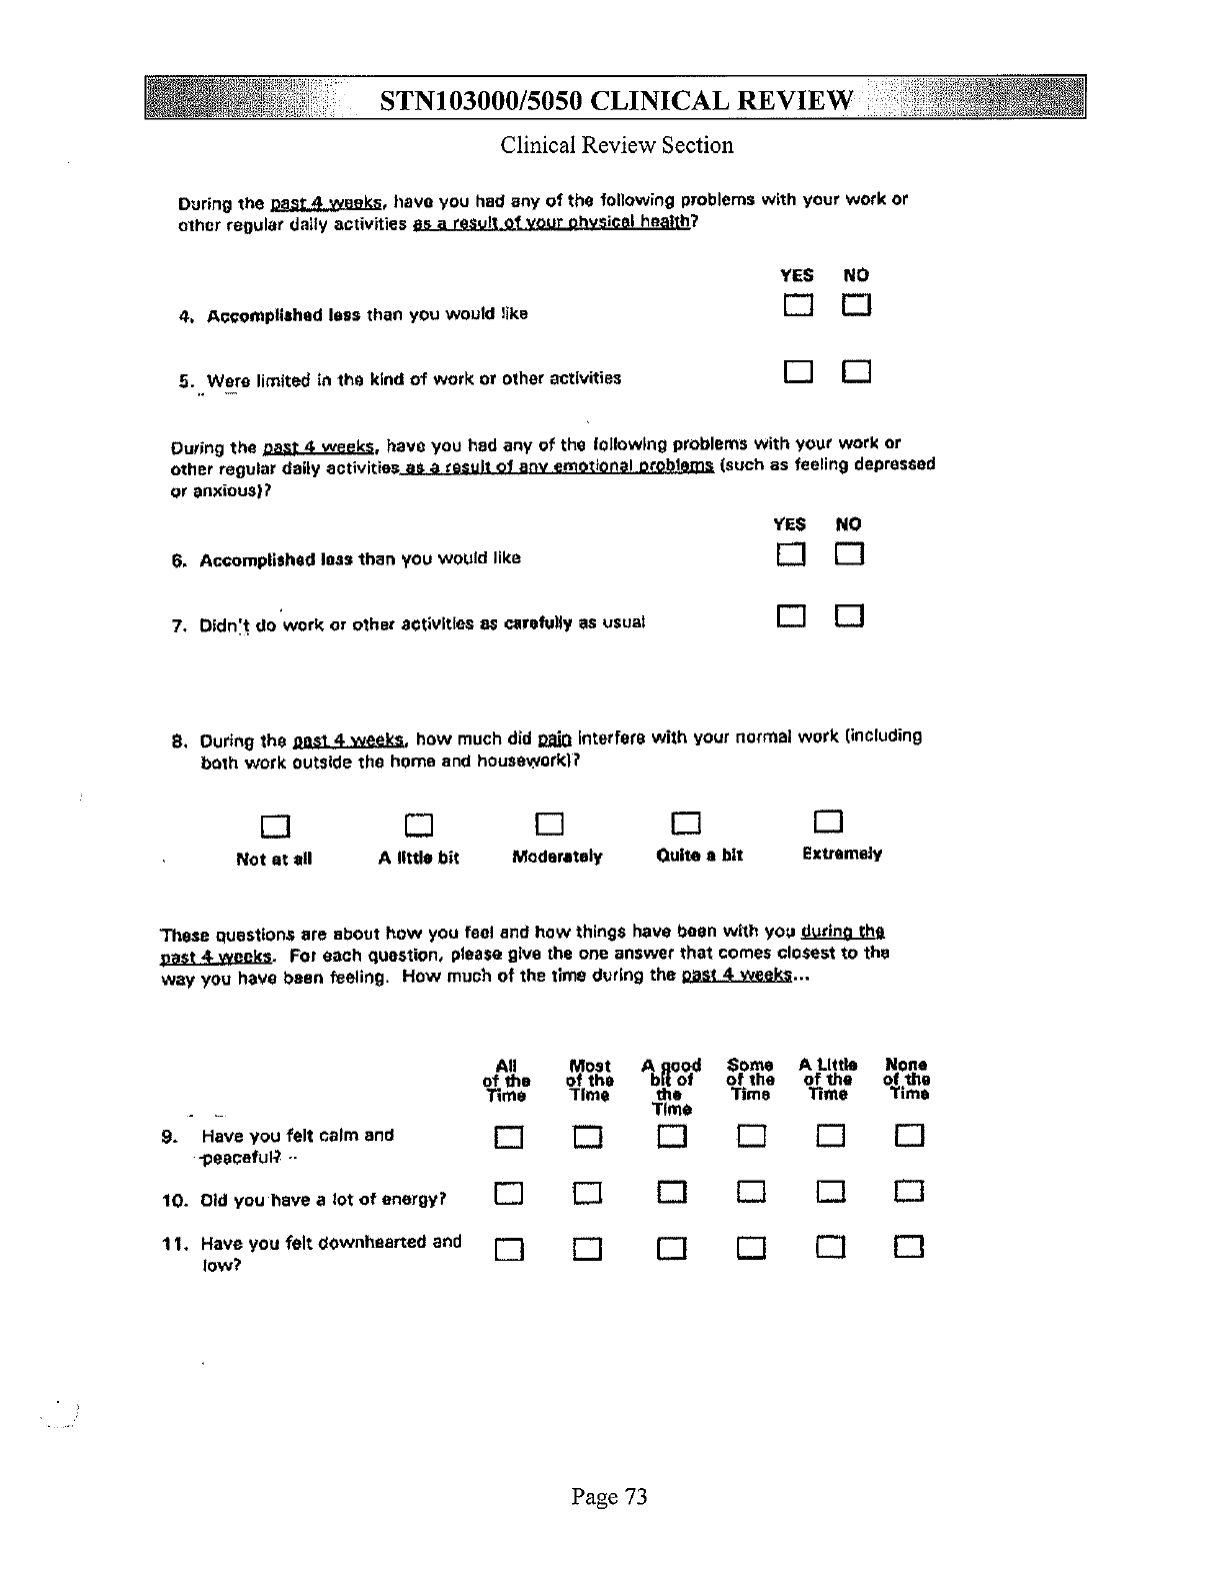nolines: (157, 1054, 931, 1279), (175, 262, 874, 394), (167, 517, 868, 633), (233, 806, 886, 865)
